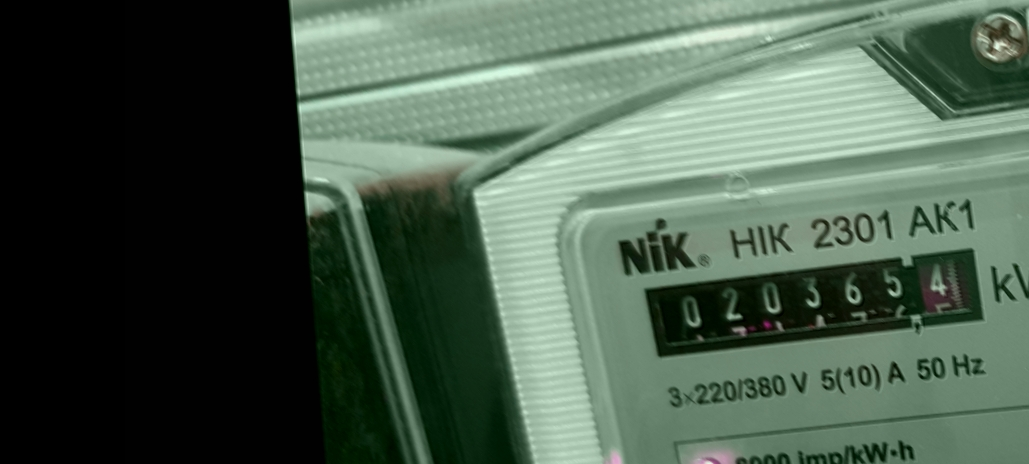0: (683, 291, 706, 327), (764, 277, 786, 314)
2: (722, 283, 747, 320)
3: (804, 271, 825, 307)
4: (930, 259, 951, 295)
5: (884, 263, 907, 297)
6: (844, 268, 866, 304)
screen: (630, 235, 1006, 366)
